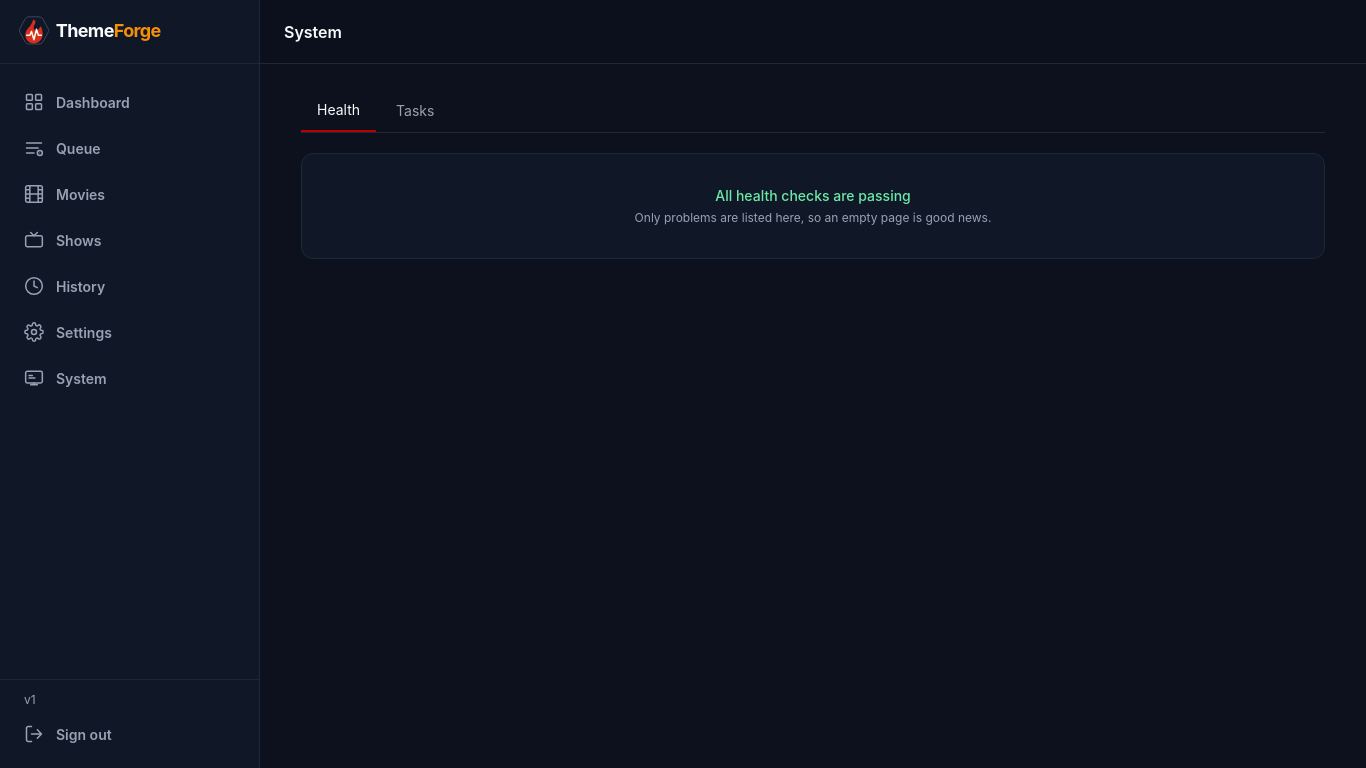
Test case: a deliberately silent background poll › a failed background poll does not blank an already-loaded page
# The task row renders on the Tasks tab, not the default Health tab.
Click the tab "tasks" at (415, 110), box left=380, top=88, right=450, bottom=132
Wait 10500 ms
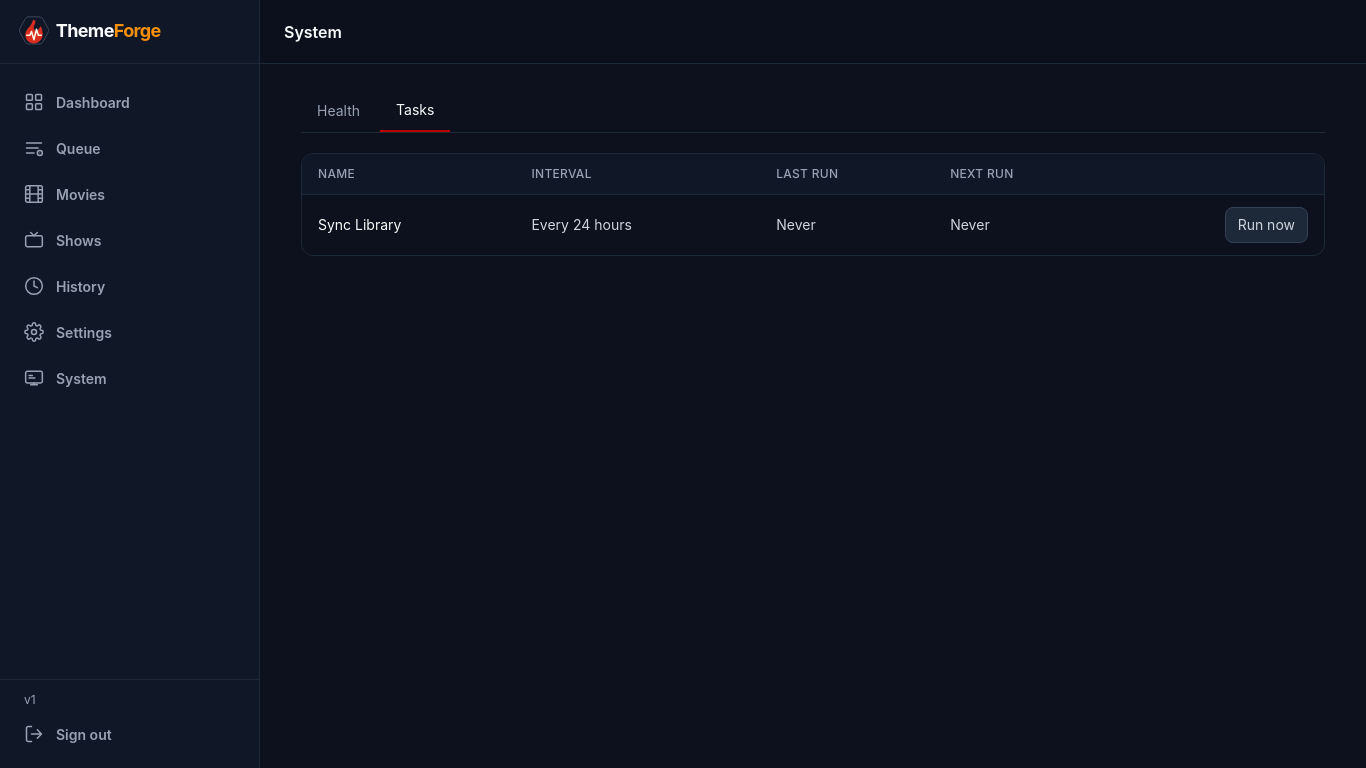
Now the text "Sync Library" is shown, box left=318, top=216, right=401, bottom=233
